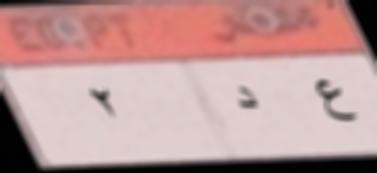2: (84, 80, 124, 121)
ain: (305, 73, 358, 126), (228, 80, 266, 116)
